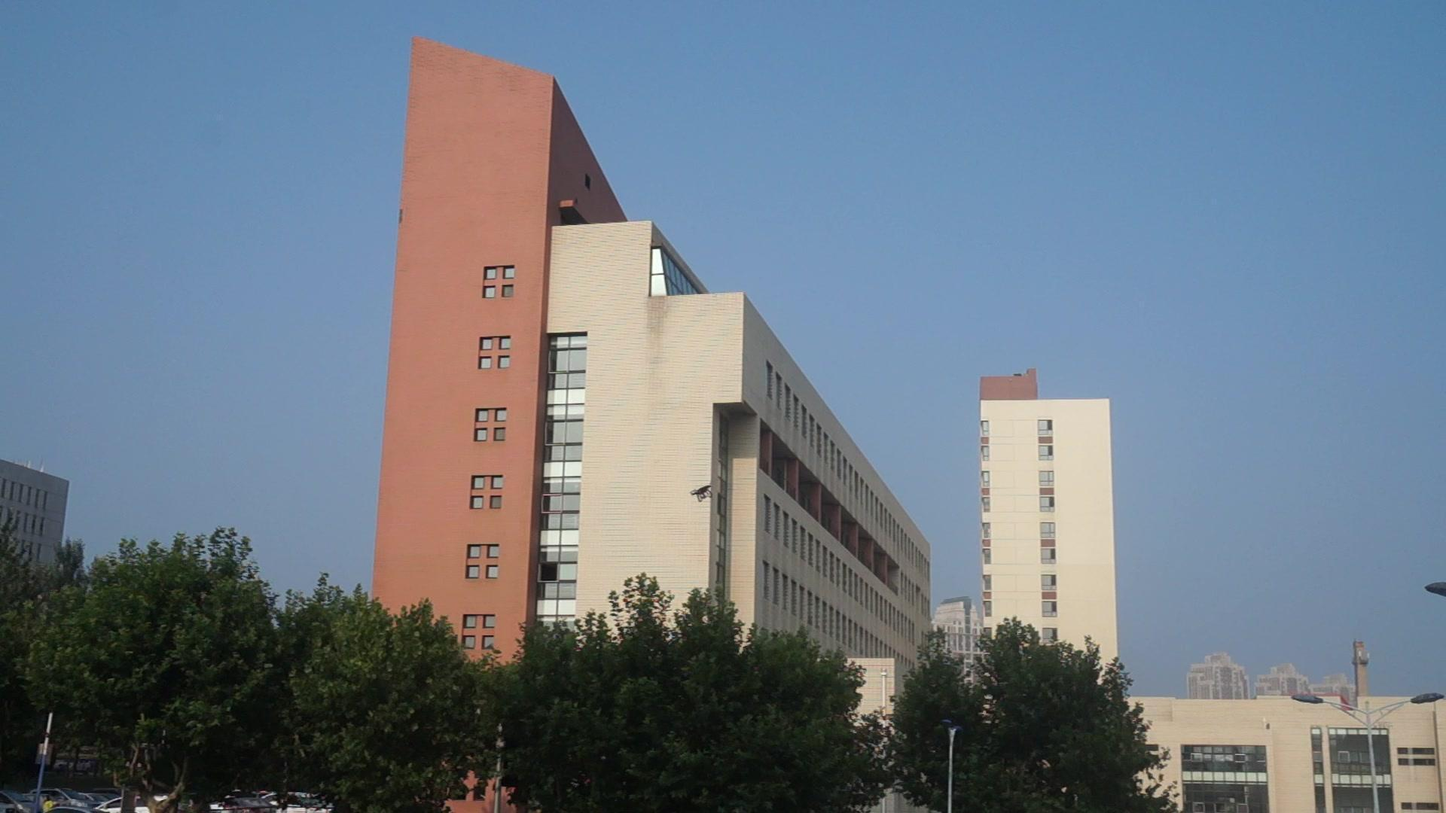UAV: (691, 486, 713, 503)
